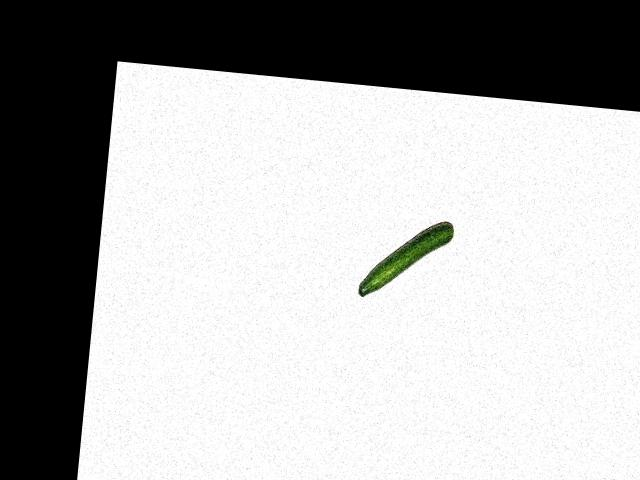cucumber: (358, 214, 455, 304)
